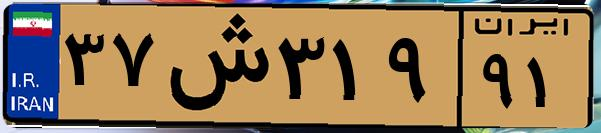1: (330, 28, 385, 110), (525, 38, 570, 115)
3: (270, 28, 330, 110), (57, 26, 110, 100)
7: (110, 28, 158, 98)
9: (385, 28, 445, 110), (475, 38, 525, 113)
ش: (158, 12, 270, 120)
